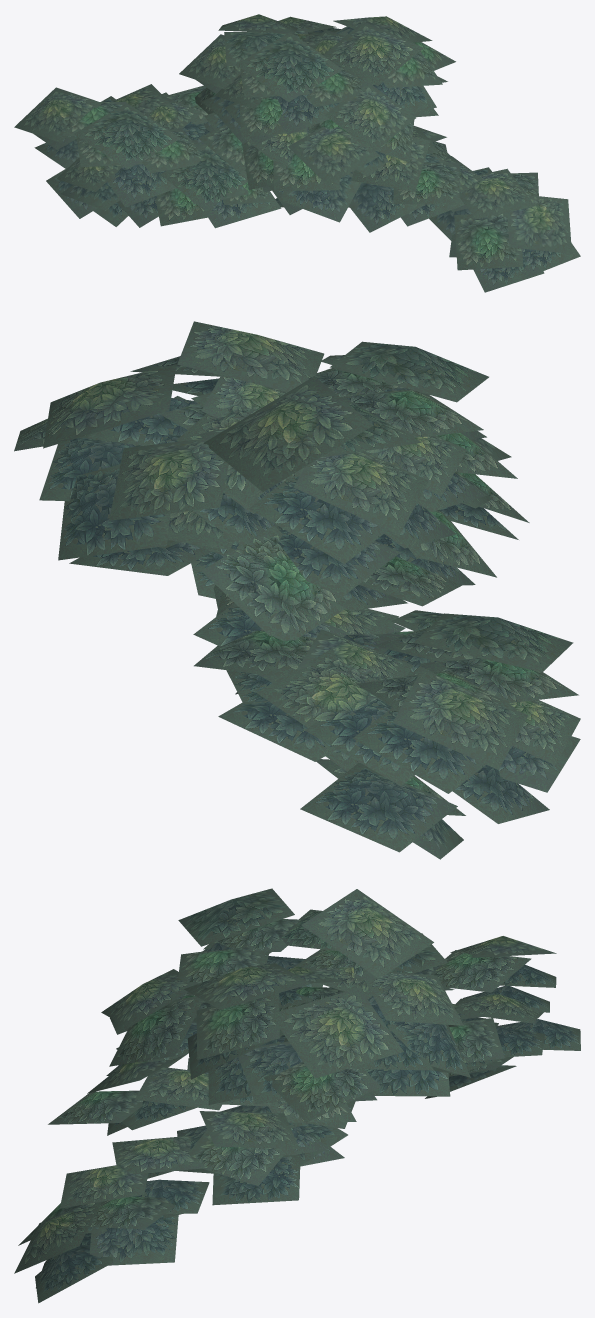
Rendered from Tree_3.FBX.
The picture shows the model from 3 angles, top to bottom: view 1: azimuth 30°, elevation 25°; view 2: azimuth 150°, elevation 25°; view 3: azimuth 270°, elevation 25°; orthographic projection. The views are drawn at different scales.
Visible parts, largest first — view 1: Tree_3; view 2: Tree_3; view 3: Tree_3.
Boxes of the visible parts, x1=… form: Tree_3: x1=14, y1=14, x2=580, y2=292; Tree_3: x1=14, y1=321, x2=580, y2=859; Tree_3: x1=14, y1=888, x2=580, y2=1303.
Size of the model in its own units: 1396 by 752 by 1360.
